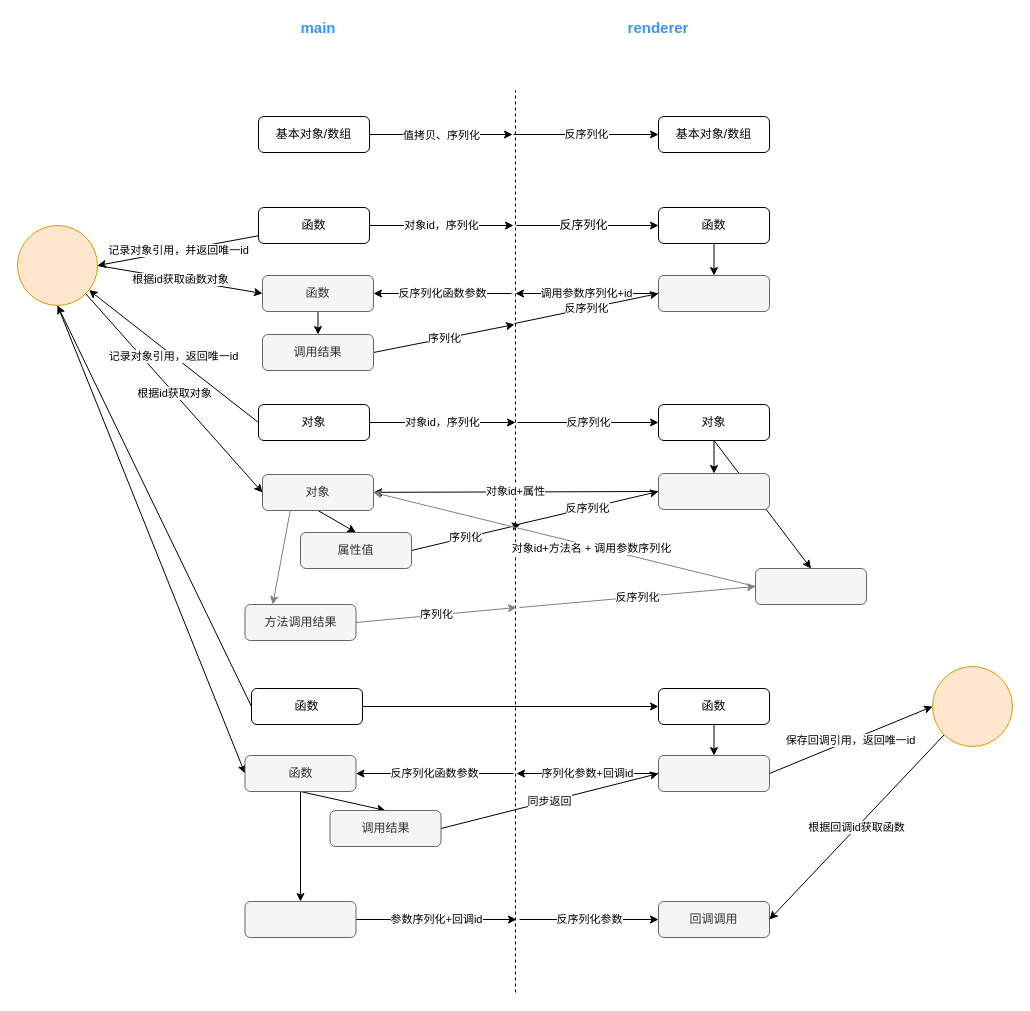
Some shapes in this 1030 by 1011 pixel diagram are drawn without their labels. Each missing label, with the centre of its shape:
"函数调用" goes at (x=714, y=293).
"回调引用表" goes at (x=972, y=706).
"对象引用表" goes at (x=57, y=265).
"属性获取" goes at (x=714, y=491).
"带回调的函数调用" goes at (x=714, y=773).
"方法调用" goes at (x=810, y=586).
"调用参数回调" goes at (x=300, y=919).
